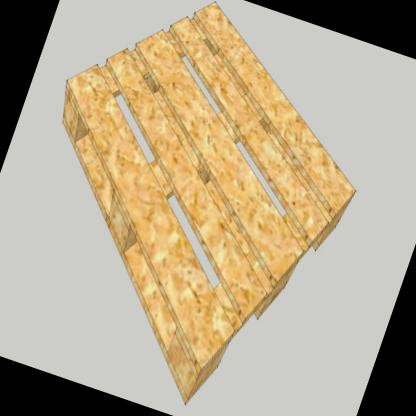BoxFace: (59, 1, 359, 411)
